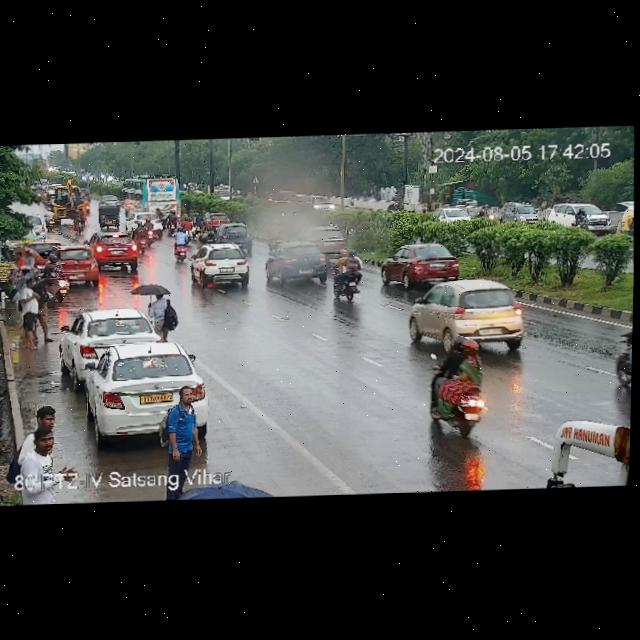bus: (541, 411, 630, 486), (121, 173, 189, 215)
car: (72, 342, 213, 438), (412, 280, 540, 352), (62, 309, 162, 366), (383, 244, 463, 286), (190, 243, 253, 285), (266, 243, 330, 283), (94, 231, 145, 271), (548, 202, 611, 234), (57, 244, 101, 285), (303, 223, 345, 253), (199, 224, 255, 246), (499, 200, 538, 223), (438, 202, 469, 225), (196, 209, 231, 229), (306, 192, 337, 212), (98, 203, 120, 228), (28, 214, 47, 237), (99, 194, 120, 206)
motorcycle: (421, 337, 488, 432), (333, 249, 372, 301), (611, 329, 632, 391), (129, 216, 162, 246), (45, 254, 66, 299), (170, 228, 196, 260), (165, 208, 188, 231), (42, 203, 56, 230), (70, 207, 84, 231), (477, 200, 493, 219), (386, 195, 403, 210), (82, 193, 93, 213)
person: (162, 389, 207, 467), (16, 433, 65, 492), (26, 404, 65, 451), (14, 279, 40, 346), (146, 285, 176, 337), (20, 250, 37, 269)
truck: (42, 181, 92, 228)
